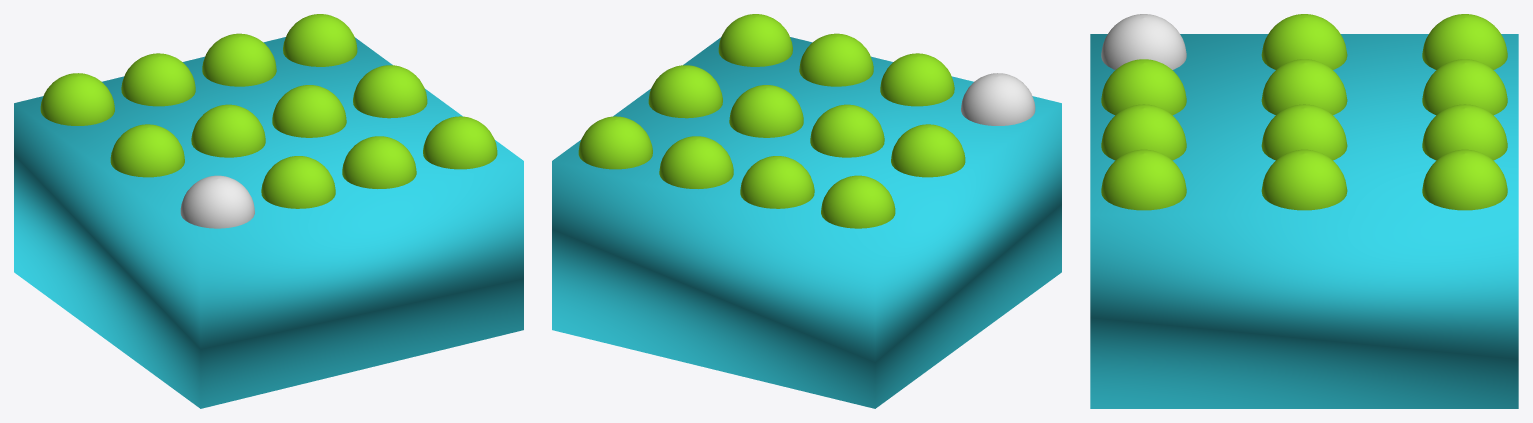
The picture shows the model from 3 angles, left to right: view 1: azimuth 30°, elevation 25°; view 2: azimuth 150°, elevation 25°; view 3: azimuth 270°, elevation 25°; orthographic projection. The views are drawn at different scales.
Visible parts, largest first — view 1: Cube, SurfSphere.011, SurfSphere.005, SurfSphere.001, SurfSphere.004, SurfSphere.006, SurfSphere.008, SurfSphere.002, SurfSphere.007, SurfSphere.010, SurfSphere.009, SurfSphere.012 (+1 smaller); view 2: Cube, SurfSphere.003, SurfSphere.005, SurfSphere.006, SurfSphere.008, SurfSphere.009, SurfSphere.012, SurfSphere.007, SurfSphere.010, SurfSphere.002, SurfSphere.001, SurfSphere.004 (+1 smaller); view 3: Cube, SurfSphere.004, SurfSphere.008, SurfSphere.012, SurfSphere.005, SurfSphere.003, SurfSphere.011, SurfSphere.006, SurfSphere.002, SurfSphere.010, SurfSphere.001, SurfSphere.007 (+1 smaller).
Boxes of the visible parts, left/top/right/bottom form: Cube: left=14, top=37, right=523, bottom=408; SurfSphere.011: left=202, top=33, right=276, bottom=86; SurfSphere.005: left=191, top=104, right=265, bottom=157; SurfSphere.001: left=180, top=175, right=254, bottom=228; SurfSphere.004: left=423, top=116, right=497, bottom=169; SurfSphere.006: left=110, top=124, right=184, bottom=177; SurfSphere.008: left=353, top=65, right=427, bottom=118; SurfSphere.002: left=261, top=156, right=335, bottom=208; SurfSphere.007: left=272, top=85, right=346, bottom=137; SurfSphere.010: left=121, top=53, right=195, bottom=106; SurfSphere.009: left=40, top=73, right=114, bottom=125; SurfSphere.012: left=283, top=14, right=357, bottom=66; Cube: left=552, top=37, right=1061, bottom=408; SurfSphere.003: left=799, top=33, right=873, bottom=86; SurfSphere.005: left=810, top=104, right=884, bottom=157; SurfSphere.006: left=891, top=124, right=965, bottom=177; SurfSphere.008: left=648, top=65, right=722, bottom=118; SurfSphere.009: left=821, top=175, right=895, bottom=228; SurfSphere.012: left=578, top=116, right=652, bottom=169; SurfSphere.007: left=729, top=85, right=803, bottom=137; SurfSphere.010: left=740, top=156, right=814, bottom=208; SurfSphere.002: left=880, top=53, right=954, bottom=106; SurfSphere.001: left=961, top=73, right=1035, bottom=125; SurfSphere.004: left=718, top=14, right=792, bottom=66; Cube: left=1090, top=34, right=1518, bottom=408; SurfSphere.004: left=1101, top=149, right=1186, bottom=210; SurfSphere.008: left=1261, top=149, right=1347, bottom=210; SurfSphere.012: left=1422, top=149, right=1507, bottom=210; SurfSphere.005: left=1261, top=59, right=1347, bottom=114; SurfSphere.003: left=1101, top=104, right=1186, bottom=160; SurfSphere.011: left=1422, top=104, right=1507, bottom=160; SurfSphere.006: left=1261, top=14, right=1347, bottom=69; SurfSphere.002: left=1101, top=59, right=1186, bottom=115; SurfSphere.010: left=1422, top=59, right=1507, bottom=115; SurfSphere.001: left=1101, top=14, right=1186, bottom=69; SurfSphere.007: left=1261, top=104, right=1347, bottom=160.
Bounding box in the file's own units: 200 × 120 × 200.
